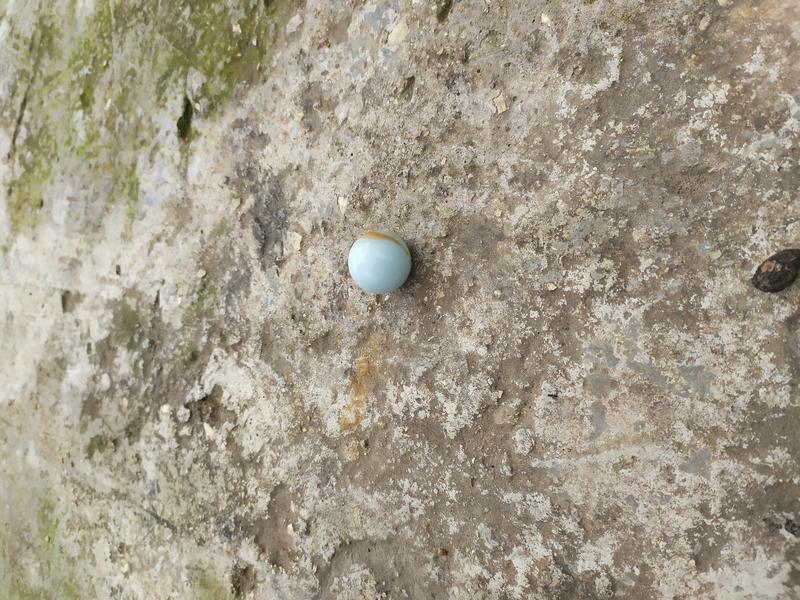Warning: (346, 229, 415, 296)
